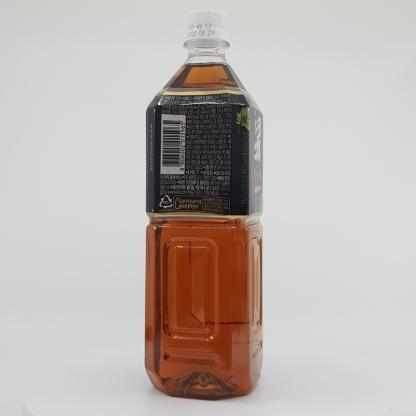----------1L: (145, 9, 263, 399)
